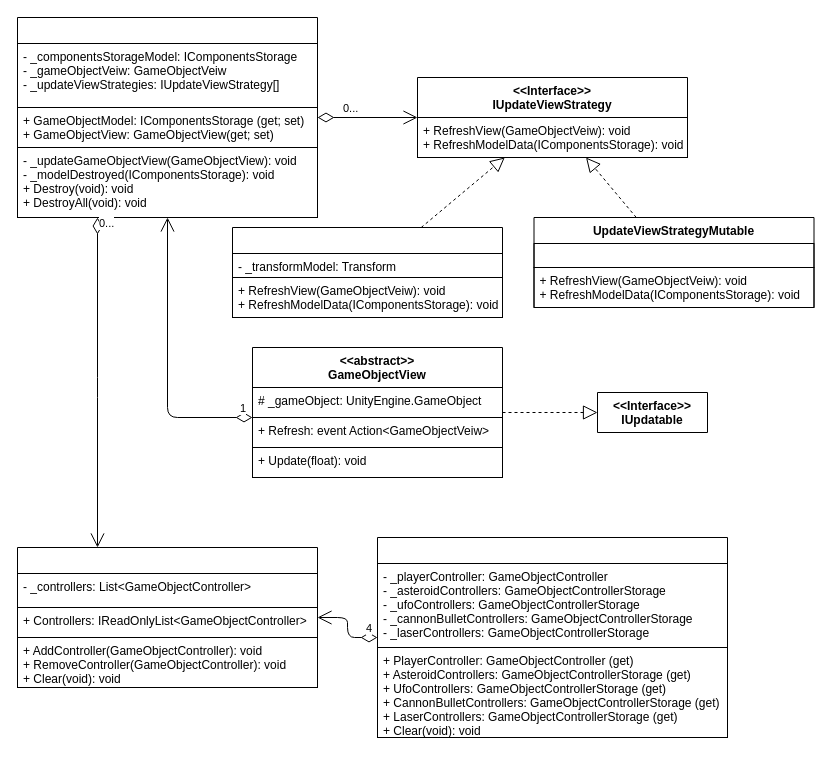
Some shapes in this 832 by 758 pixel diagram are drawn without their labels. The box of each missing label's shape, as (x1, y1, x2, y2) in pixels:
- _velocityMoverModel: IVelocityMover: (533, 242, 814, 268)
AsteroidsControllers: (376, 536, 728, 738)
GameObjectController: (16, 16, 318, 218)
GameObjectControllerStorage: (16, 546, 318, 688)
UpdateViewStrategyTransform: (232, 226, 502, 318)
